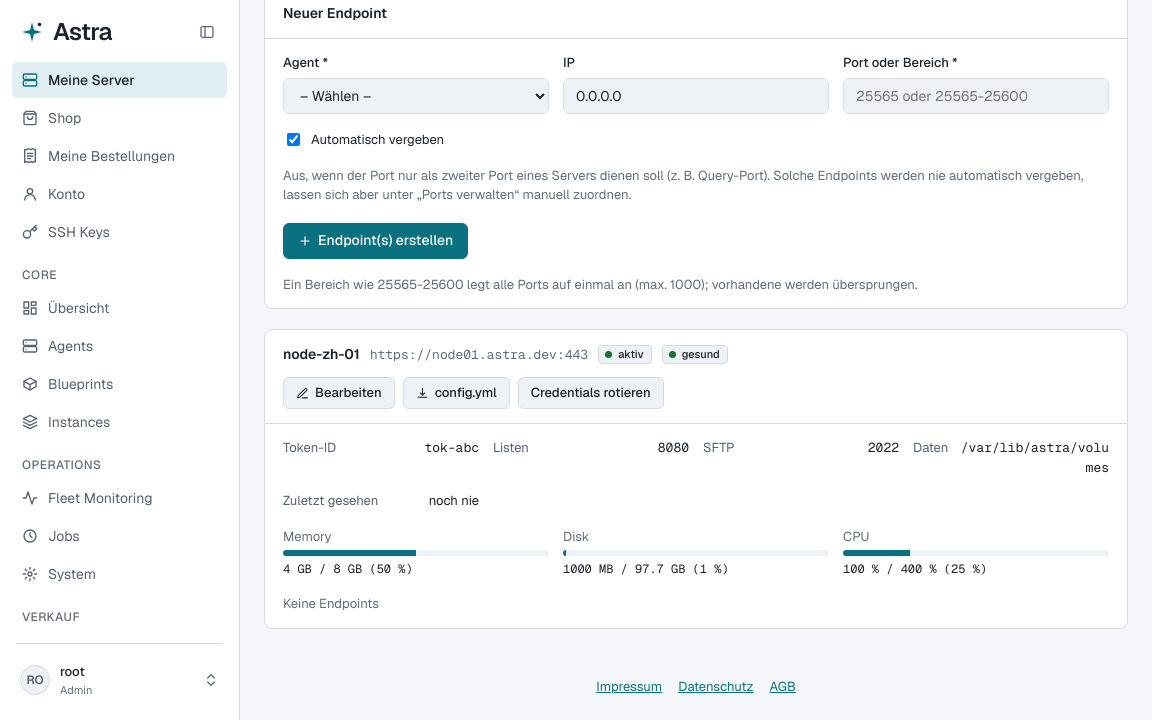
Test: AdminAgentsPage › rotiert Credentials nach Bestaetigung
(page scrolled)
Click the button "Credentials rotieren" at (591, 393), box [518,377,664,409]
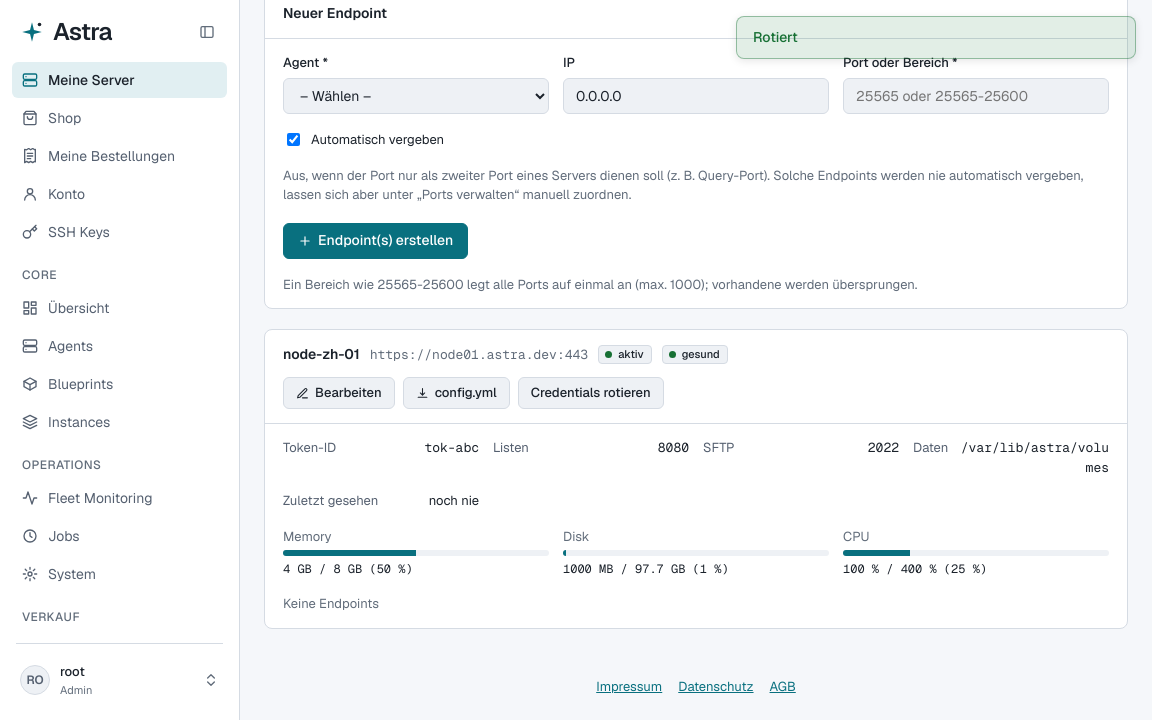
Expected: the text "Rotiert" is shown, [736,16,1136,59]
